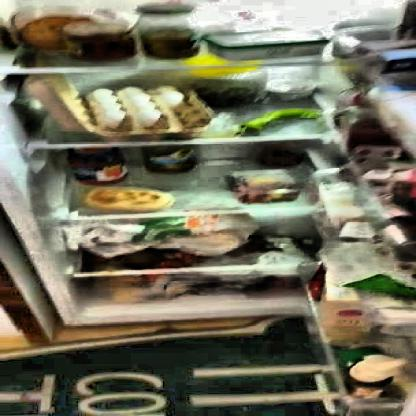cream_cheese: (208, 30, 322, 57)
eggs: (90, 88, 184, 123)
green_chillies: (234, 109, 319, 134)
milk: (326, 290, 374, 342)
olives: (198, 84, 263, 104)
